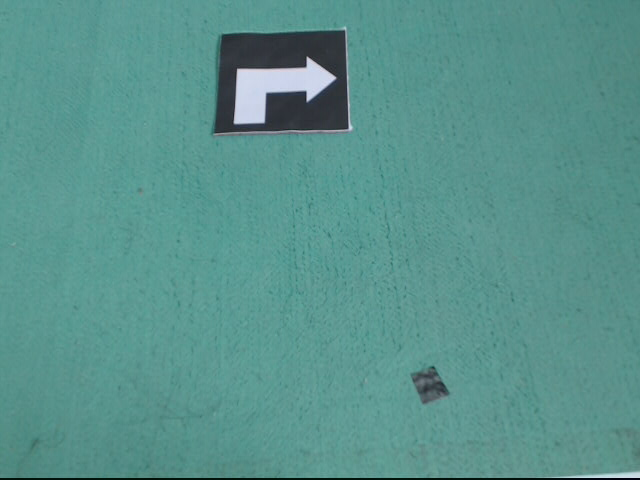right: (214, 30, 352, 134)
